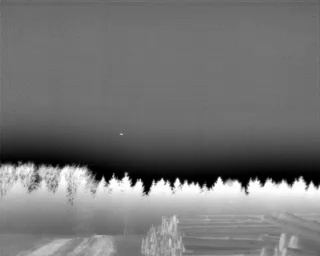AIRPLANE: (117, 130, 125, 138)
